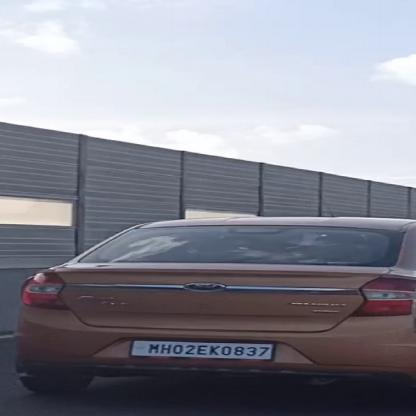license_plate: (128, 339, 274, 360)
